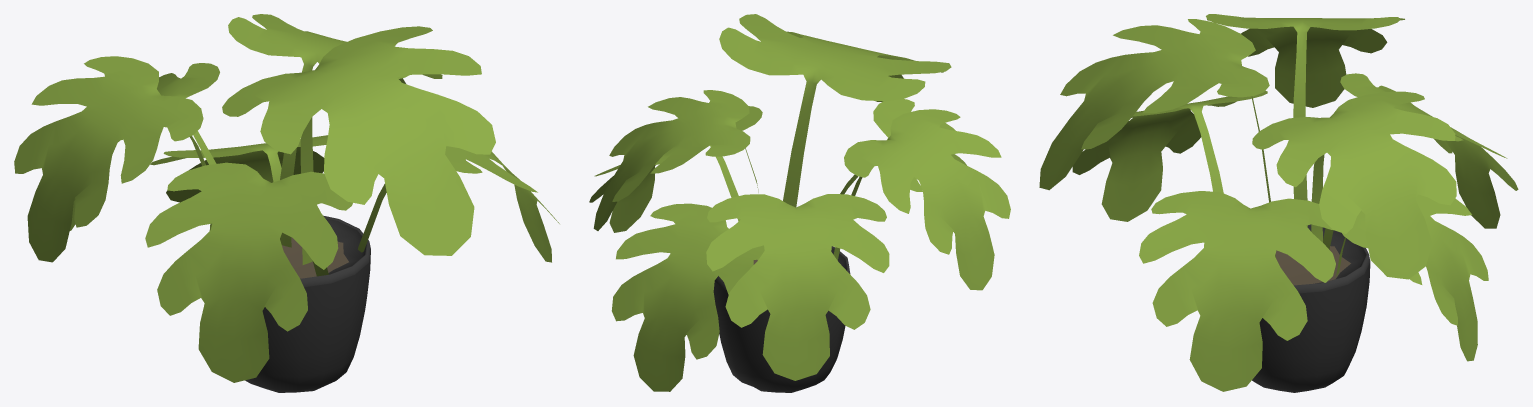
File: Plant.fbx
The picture shows the model from 3 angles, left to right: view 1: azimuth 30°, elevation 25°; view 2: azimuth 150°, elevation 25°; view 3: azimuth 270°, elevation 25°; orthographic projection. The views are drawn at different scales.
Parts seen in each view (by area): view 1: Houseplant_7.001; view 2: Houseplant_7.001; view 3: Houseplant_7.001.
Boxes of the visible parts, x1=… form: Houseplant_7.001: x1=14, y1=14, x2=559, y2=392; Houseplant_7.001: x1=589, y1=14, x2=1010, y2=392; Houseplant_7.001: x1=1039, y1=14, x2=1518, y2=392.
Size of the model in its own units: 1.08 by 0.7866 by 1.03.
